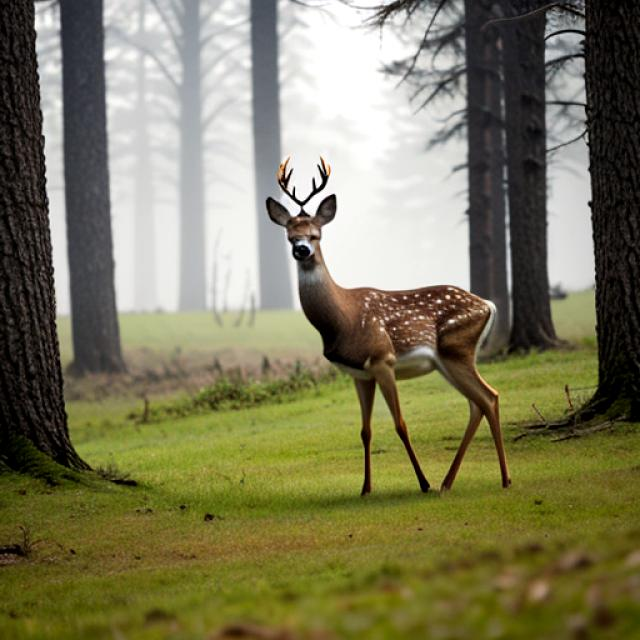deer: (259, 144, 502, 468)
